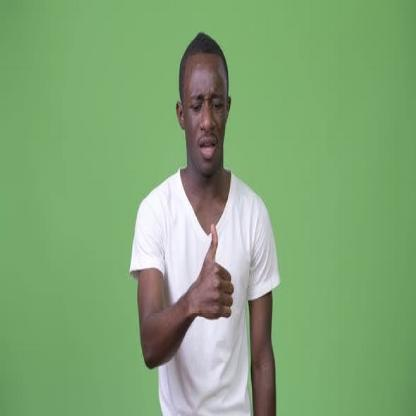Thumbs-Up: (195, 220, 234, 327)
